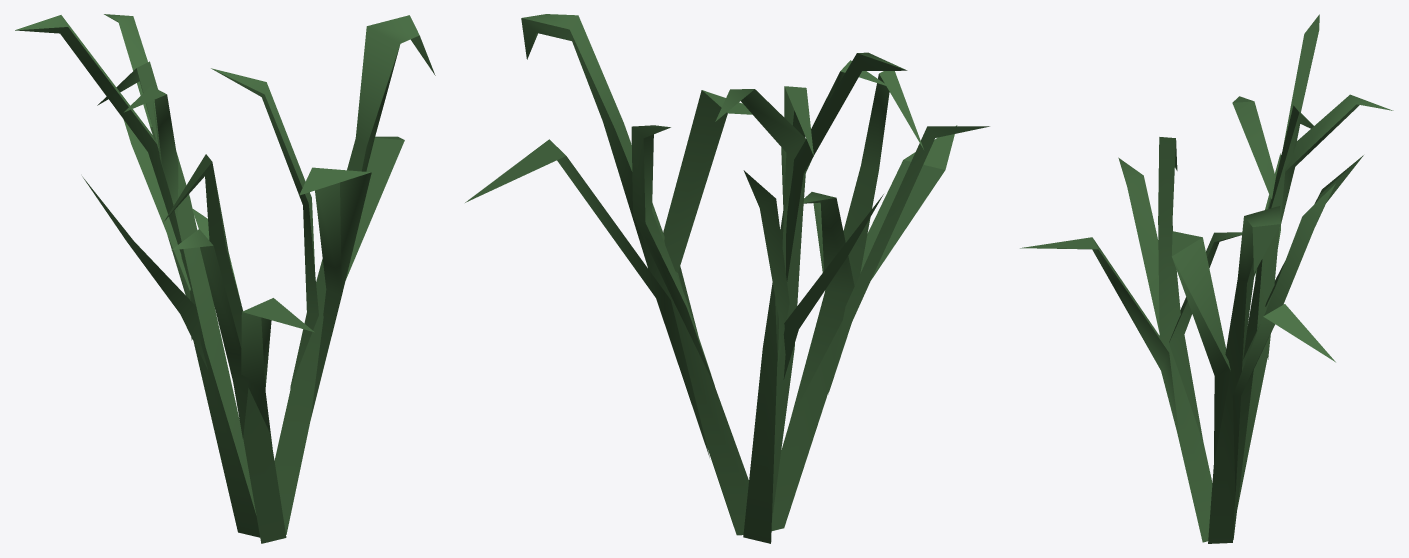
File: Grass_4.fbx
3 renders of one model, left to right at view 1: azimuth 30°, elevation 25°; view 2: azimuth 150°, elevation 25°; view 3: azimuth 270°, elevation 25°, orthographic. The views are drawn at different scales.
Parts seen in each view (by area): view 1: Grass_4; view 2: Grass_4; view 3: Grass_4.
Part boxes in pixels (left/top/right/bottom): Grass_4: left=15, top=14, right=435, bottom=543; Grass_4: left=465, top=14, right=989, bottom=543; Grass_4: left=1020, top=14, right=1393, bottom=543.
Size of the model in its own units: 27.63 by 34.4 by 26.25.
